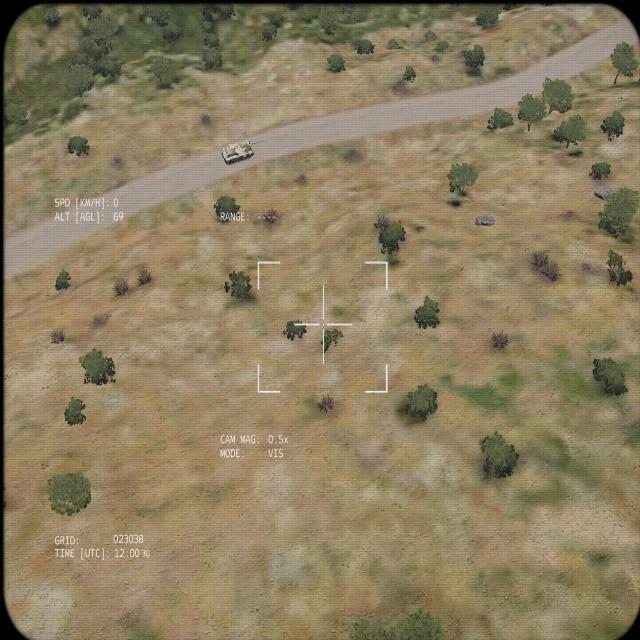tank: (220, 136, 261, 166)
